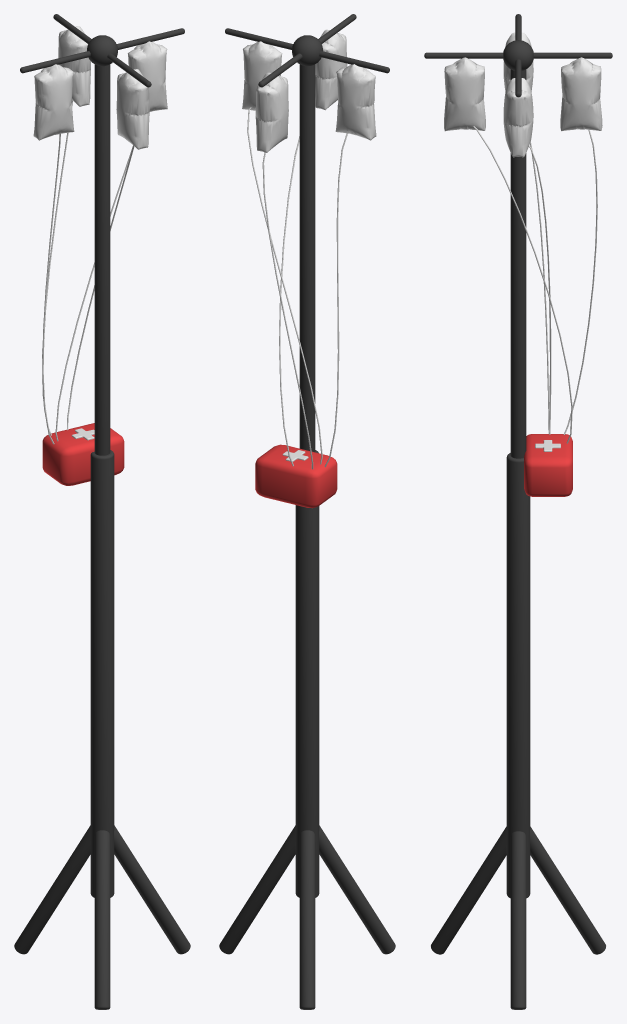
Rendered from iv-stand.fbx.
The picture shows the model from 3 angles, left to right: view 1: azimuth 30°, elevation 25°; view 2: azimuth 150°, elevation 25°; view 3: azimuth 270°, elevation 25°; orthographic projection.
Visible parts, largest first — view 1: IV pole, Cube, IV Bag 1, IV Bag 4, IV Bag 2, IV Bag 3, BézierCurve, BézierCurve.002, BézierCurve.003, BézierCurve.001; view 2: IV pole, Cube, IV Bag 1, IV Bag 3, IV Bag 4, IV Bag 2, BézierCurve.002, BézierCurve, BézierCurve.001, BézierCurve.003; view 3: IV pole, Cube, IV Bag 3, IV Bag 4, IV Bag 2, BézierCurve.003, BézierCurve.001, BézierCurve.002, BézierCurve, IV Bag 1.
Part boxes in pixels (x1,y1,x2,y2): IV pole: (14,14,190,1009); Cube: (42,423,124,485); IV Bag 1: (33,64,74,140); IV Bag 4: (116,69,149,149); IV Bag 2: (127,41,167,111); IV Bag 3: (58,26,90,106); BézierCurve: (42,133,60,444); BézierCurve.002: (55,145,133,441); BézierCurve.003: (67,145,134,430); BézierCurve.001: (42,100,72,435); IV pole: (219,14,395,1009); Cube: (255,444,337,508); IV Bag 1: (335,64,376,140); IV Bag 3: (255,72,288,152); IV Bag 4: (315,29,347,110); IV Bag 2: (242,41,282,110); BézierCurve.002: (247,107,322,464); BézierCurve: (324,133,347,467); BézierCurve.001: (262,152,313,469); BézierCurve.003: (279,136,299,466); IV pole: (424,14,612,1009); Cube: (524,434,572,496); IV Bag 3: (560,57,602,131); IV Bag 4: (444,57,485,131); IV Bag 2: (503,78,533,157); BézierCurve.003: (473,126,572,443); BézierCurve.001: (563,130,597,434); BézierCurve.002: (528,145,551,434); BézierCurve: (530,141,549,433); IV Bag 1: (503,32,533,91).
Size of the model in its own units: 31.43 by 166 by 30.48.
